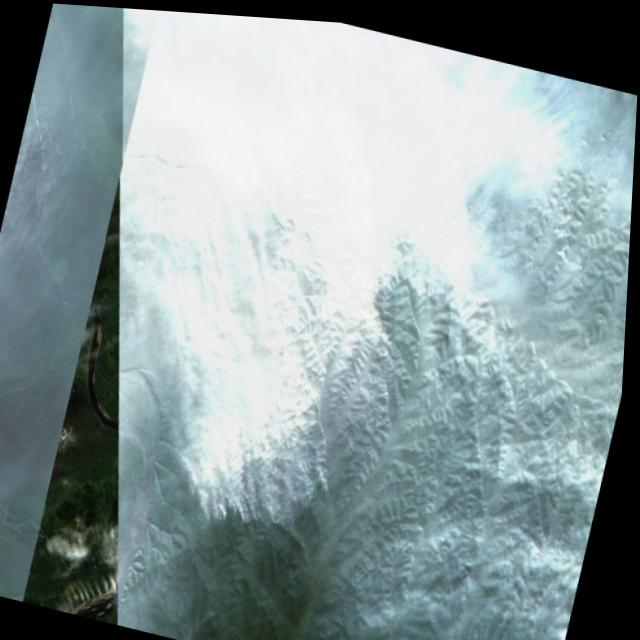fire: (159, 183, 438, 564)
